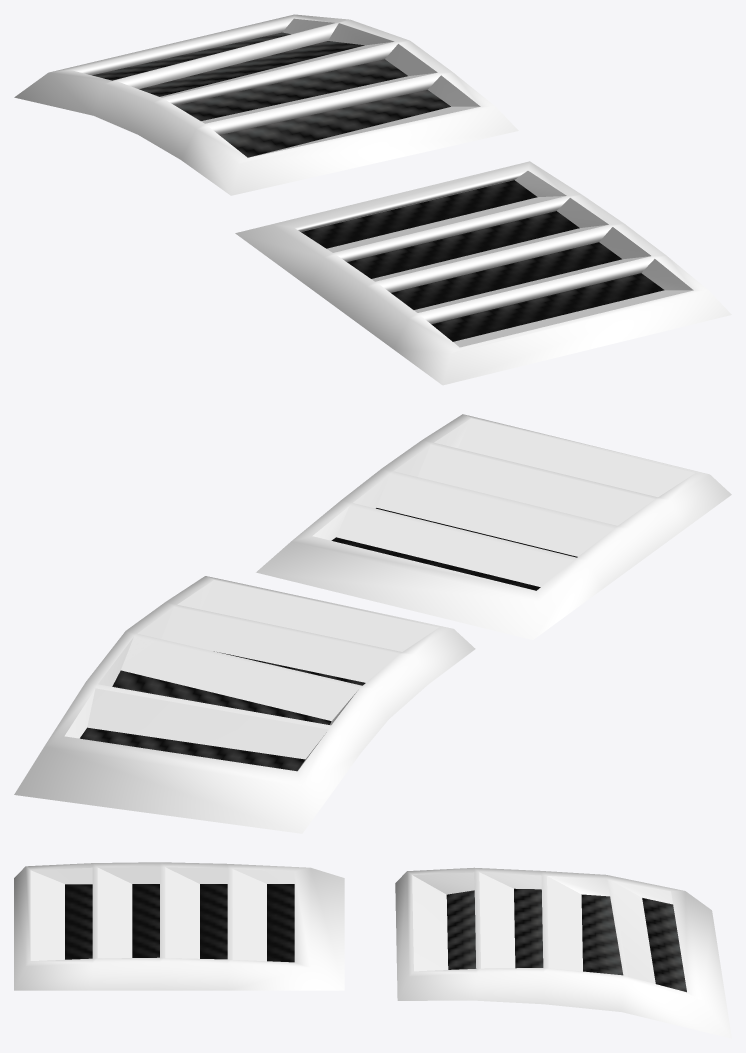
The model's file is bntr_b_sq.glb.
The picture shows the model from 3 angles, top to bottom: view 1: azimuth 30°, elevation 25°; view 2: azimuth 150°, elevation 25°; view 3: azimuth 270°, elevation 25°; orthographic projection. The views are drawn at different scales.
Parts seen in each view (by area): view 1: bntr_b_sq, bntr_b_sq_dam; view 2: bntr_b_sq_dam, bntr_b_sq; view 3: bntr_b_sq_dam, bntr_b_sq.
Boxes of the visible parts, bbox=[...] form: bntr_b_sq: bbox=[235, 161, 731, 385]; bntr_b_sq_dam: bbox=[14, 14, 518, 195]; bntr_b_sq_dam: bbox=[14, 576, 475, 833]; bntr_b_sq: bbox=[256, 414, 731, 639]; bntr_b_sq_dam: bbox=[395, 867, 731, 1038]; bntr_b_sq: bbox=[14, 862, 344, 990].
Size of the model in its own units: 0.4063 by 0.1107 by 1.
Materials: 2 (2 with a texture image).
